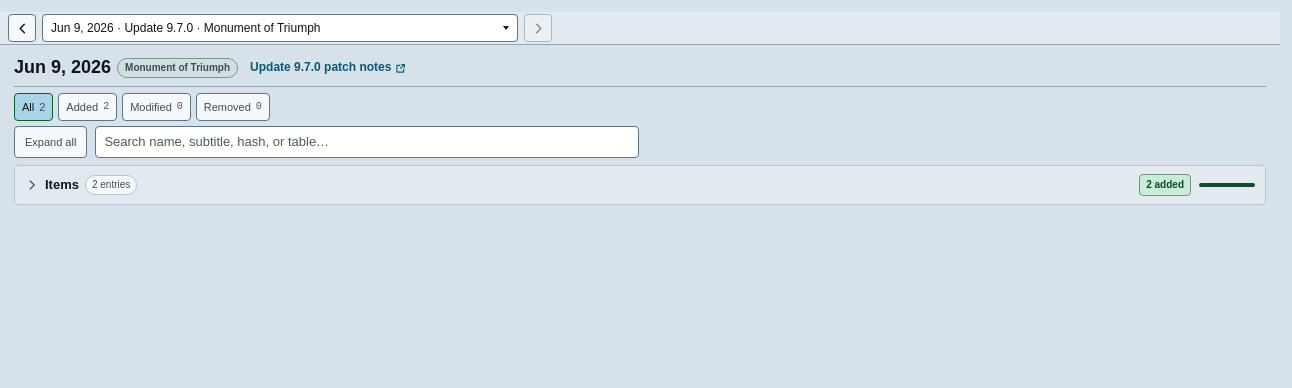
ManifestHistoryPage workspace › opens an entry in a split inspector tab and returns to the overview when the last tab closes
Later steps or results of the test are not shown.
Click the button "Expand all": (51, 142) [14,126,87,158]
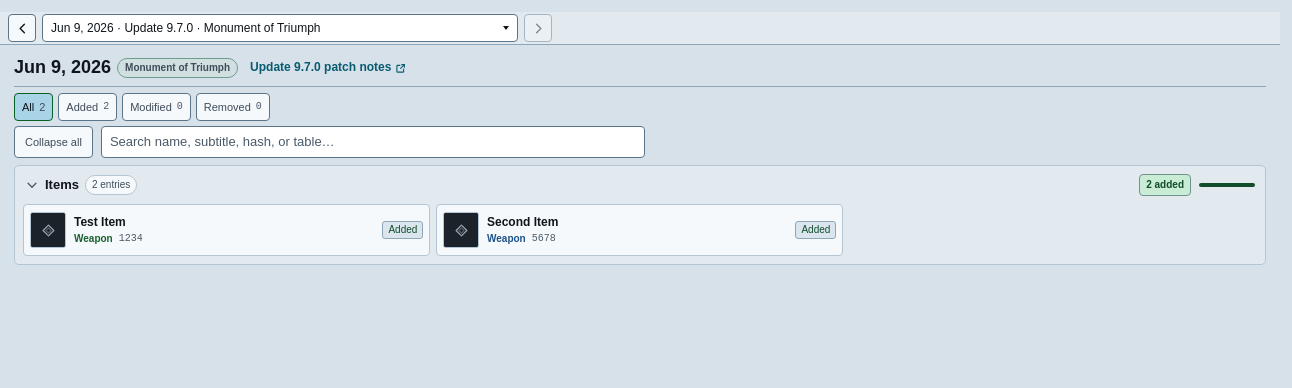
Click the button titled "Open Test Item history diff": (48, 230) [23,204,430,256]
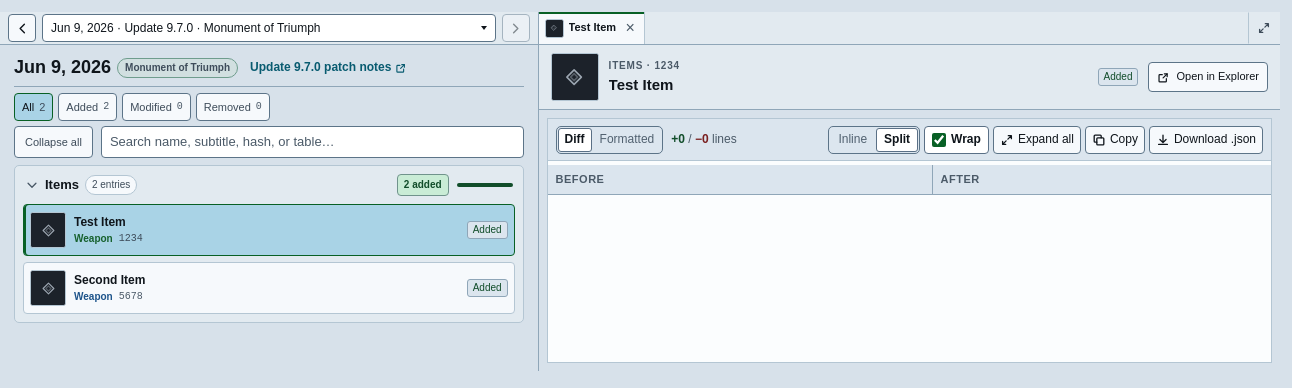
Check: the element named "Resize release changes pane" is shown, box [534,12,542,371]
Check: the element named "History entry diffs" is shown, box [539,12,645,44]
Check: the tab "Test Item" is shown, box [545,12,616,44]
